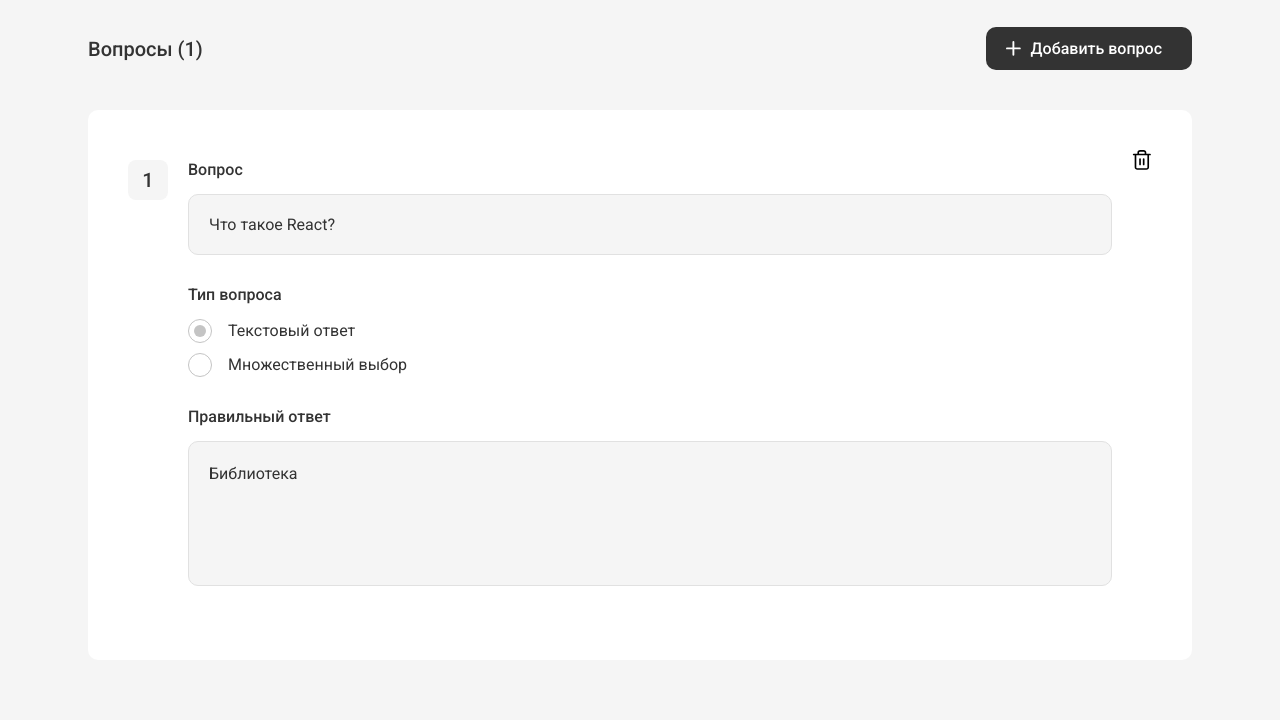
EditTestPage › editing questions › adds an option to a multiple choice question
(page scrolled)
Click the radio button labelled "Множественный выбор" at (298, 365), box [188,353,407,377]
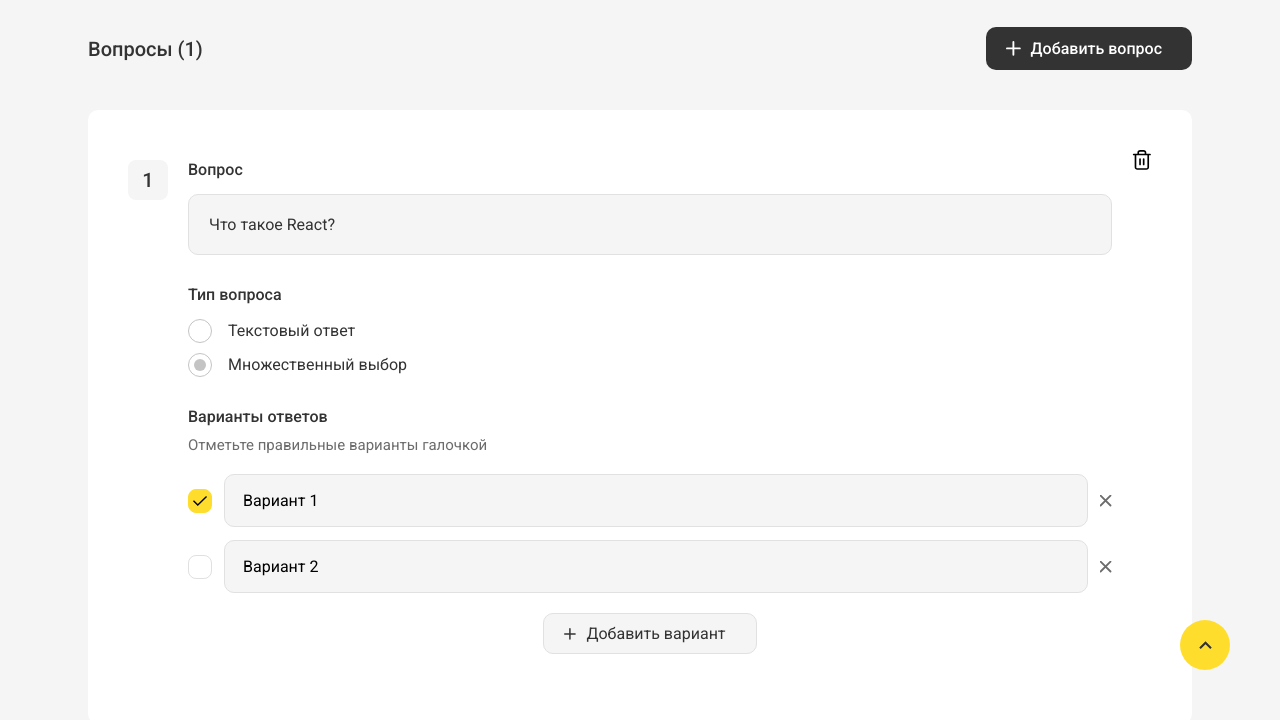
Click the button "Добавить вариант" at (650, 634), box [543,613,756,654]
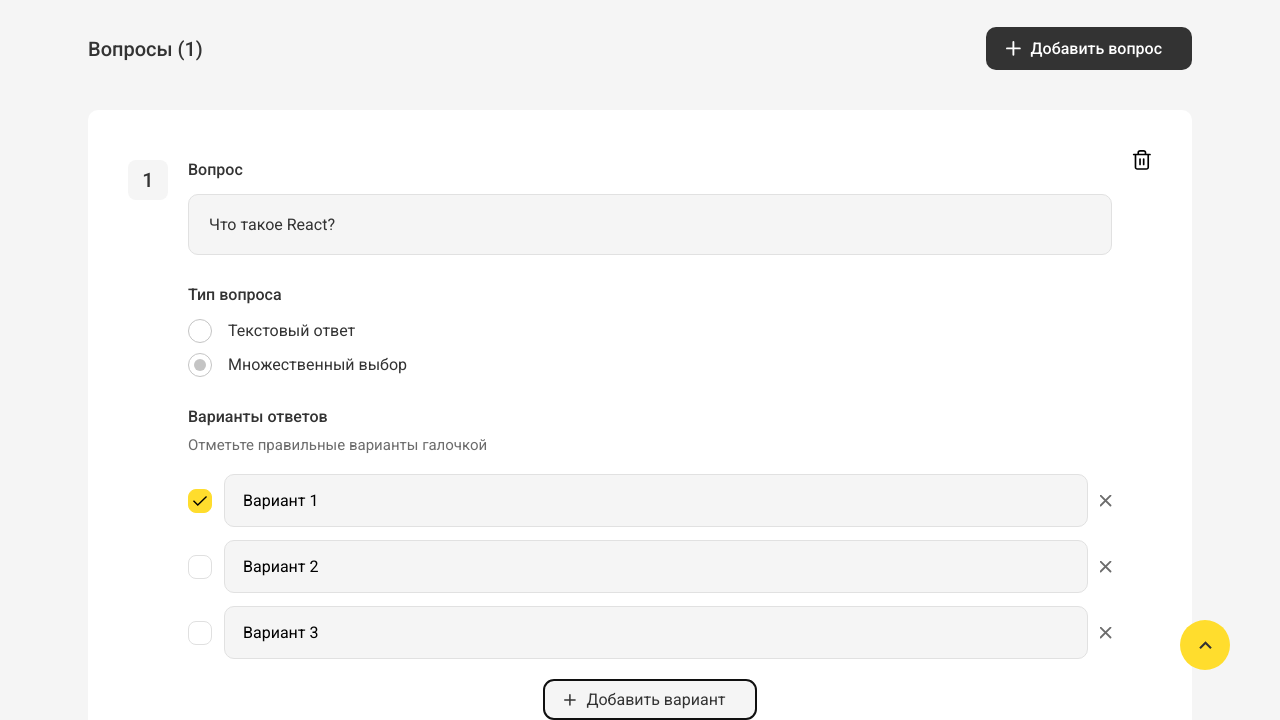
Result: the 4th field showing "Вариант 3" is shown at [224,606,1088,659]
